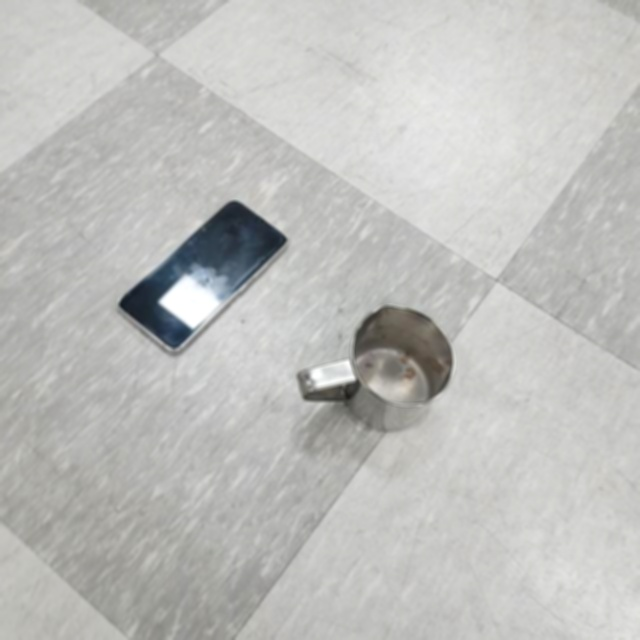cup: (291, 302, 455, 434)
phone: (118, 194, 288, 359)
